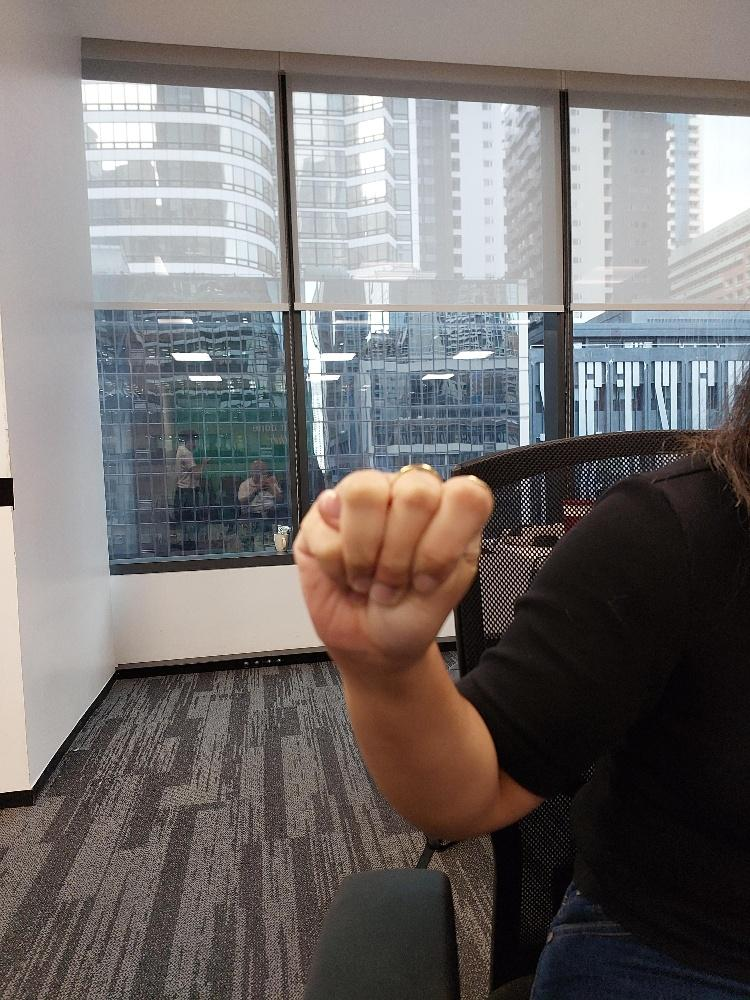m: (289, 459, 498, 675)
